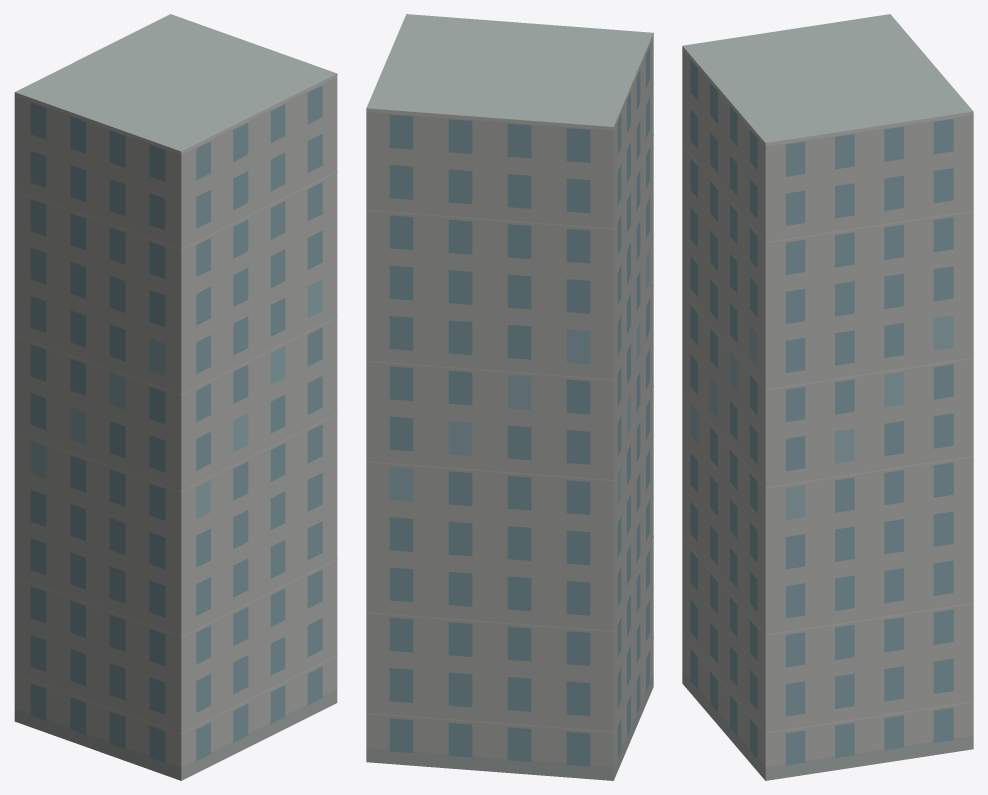
Rendered from residential-328a95e6-e008-458d-b0a8-841fdb6c4e21.glb.
3 views of the same model, side by side, from view 1: azimuth 30°, elevation 25°; view 2: azimuth 150°, elevation 25°; view 3: azimuth 270°, elevation 25° (orthographic). The views are drawn at different scales.
Parts seen in each view (by area): view 1: residential-328a95e6-e008-458d-b0a8-841fdb6c4e21.tmp; view 2: residential-328a95e6-e008-458d-b0a8-841fdb6c4e21.tmp; view 3: residential-328a95e6-e008-458d-b0a8-841fdb6c4e21.tmp.
Part boxes in pixels (x1,y1,x2,y2): residential-328a95e6-e008-458d-b0a8-841fdb6c4e21.tmp: (14, 14, 337, 780); residential-328a95e6-e008-458d-b0a8-841fdb6c4e21.tmp: (366, 14, 653, 780); residential-328a95e6-e008-458d-b0a8-841fdb6c4e21.tmp: (682, 14, 973, 780).
Size of the model in its own units: 19.13 by 44 by 18.23.
